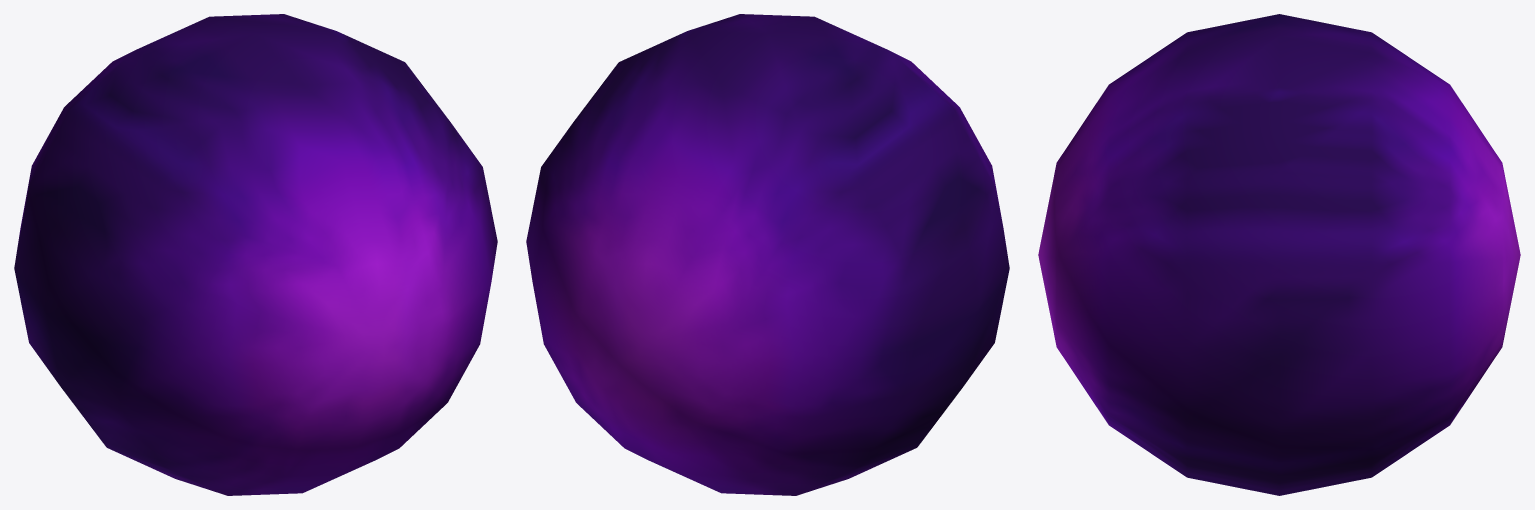
The model's file is Missile.gltf.
3 views of the same model, side by side, from view 1: azimuth 30°, elevation 25°; view 2: azimuth 150°, elevation 25°; view 3: azimuth 270°, elevation 25° (orthographic).
Parts seen in each view (by area): view 1: MissileMesh; view 2: MissileMesh; view 3: MissileMesh.
Part boxes in pixels (x1=…): MissileMesh: x1=14, y1=14, x2=497, y2=495; MissileMesh: x1=526, y1=14, x2=1009, y2=495; MissileMesh: x1=1038, y1=14, x2=1520, y2=495.
Bounding box in the file's own units: 1.47 × 1.47 × 1.47.
Materials: 1 (1 with a texture image).
